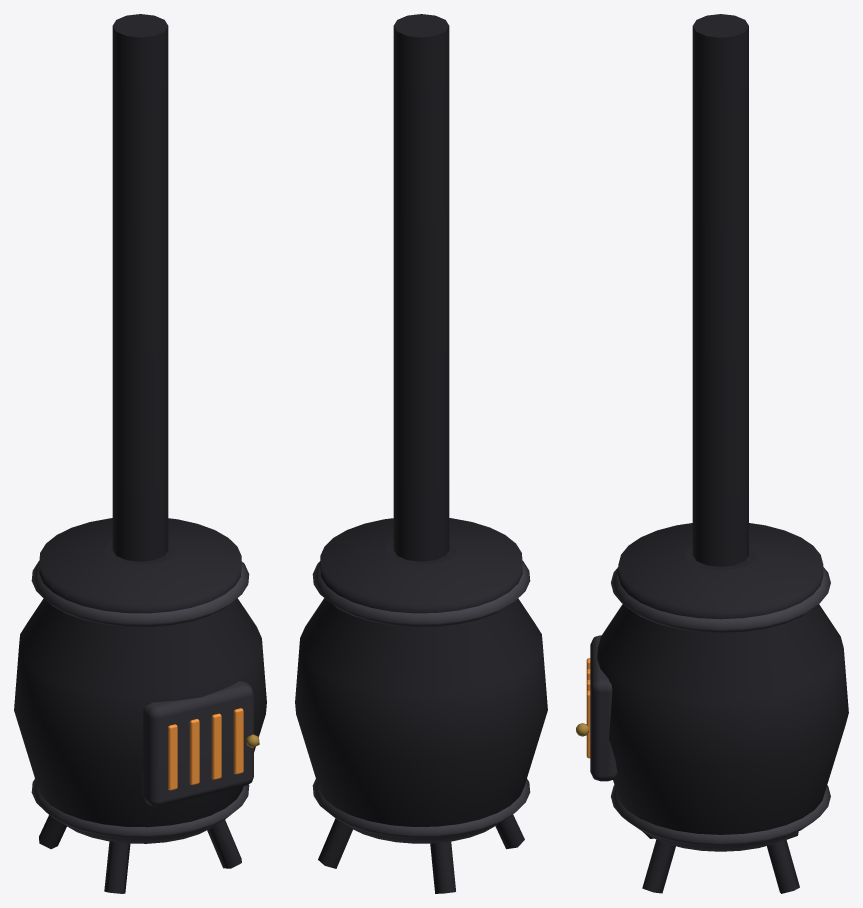
File: furn_lh_stove.glb
The picture shows the model from 3 angles, left to right: view 1: azimuth 30°, elevation 25°; view 2: azimuth 150°, elevation 25°; view 3: azimuth 270°, elevation 25°; orthographic projection.
Parts seen in each view (by area): view 1: furn_lh_stove_main, furn_lh_stove_glow; view 2: furn_lh_stove_main; view 3: furn_lh_stove_main.
Boxes of the visible parts, x1,y1,x2,y2 form: furn_lh_stove_main: [14, 14, 266, 893]; furn_lh_stove_glow: [168, 708, 243, 790]; furn_lh_stove_main: [295, 14, 547, 893]; furn_lh_stove_main: [576, 14, 848, 893].
Size of the model in its own units: 0.5 by 1.81 by 0.5328.
